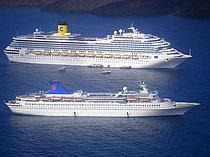Ship: (3, 18, 200, 76), (3, 77, 206, 123)
